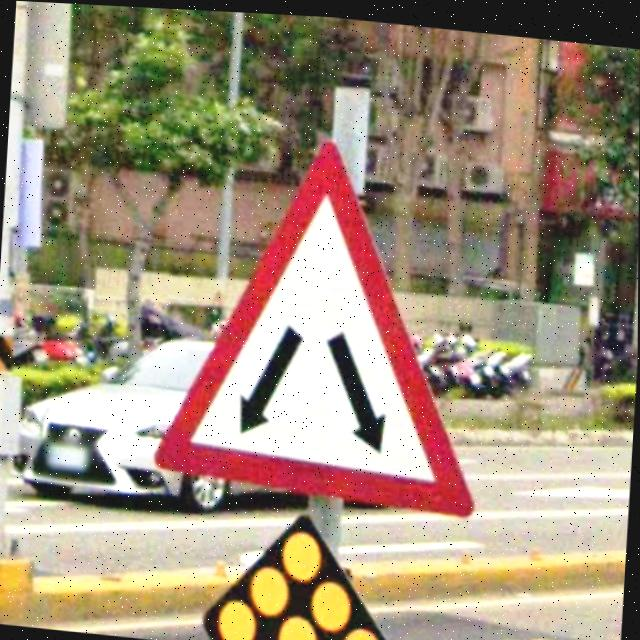diverge: (151, 117, 497, 518)
